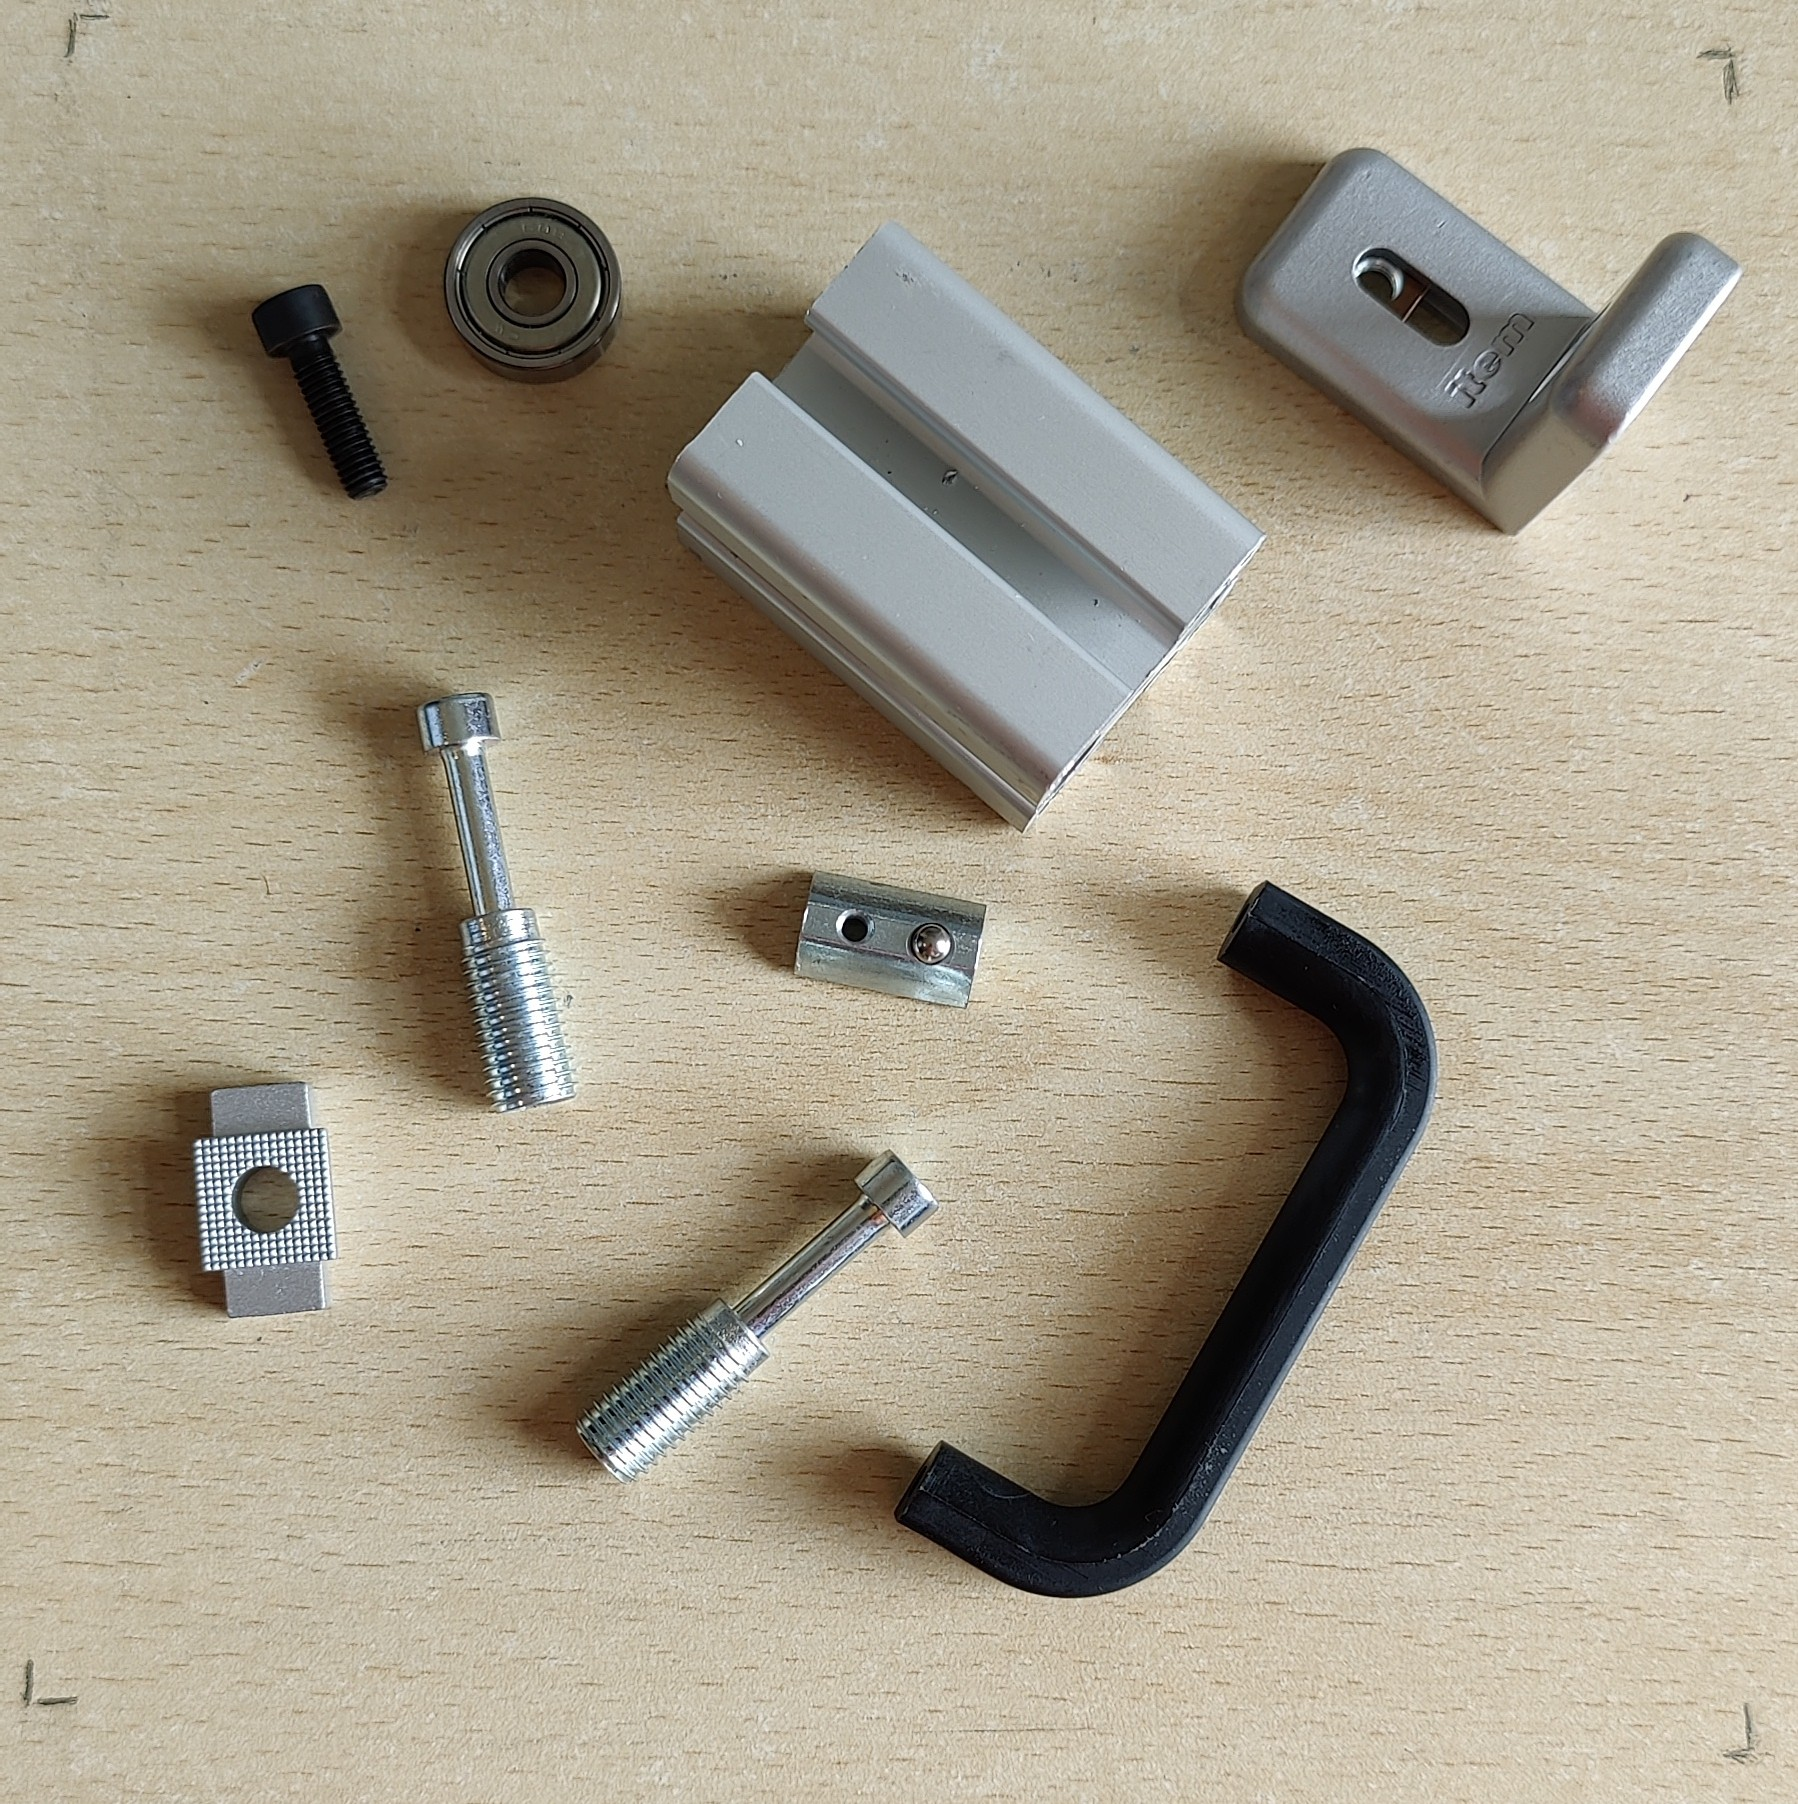Aluminium Extension: (665, 217, 1268, 838)
Ball Bearing: (440, 193, 624, 387)
Multiwinkel: (1228, 145, 1745, 538)
Pull Handle: (892, 877, 1437, 1600)
Shoulder Socket Head Cap Screw: (573, 1149, 940, 1486), (413, 690, 581, 1116)
Socket Head Cap Screw: (250, 281, 389, 500)
T Nut Square: (193, 1081, 341, 1322)
T Spring Nut: (790, 867, 990, 1011)
